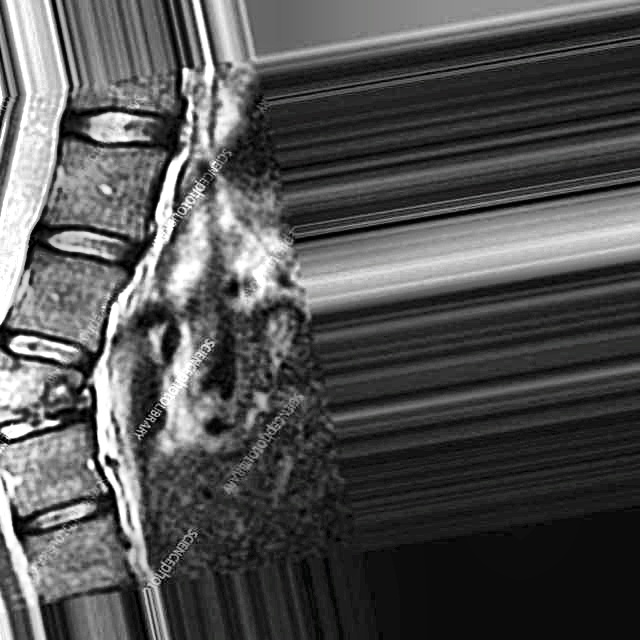Greenstick: (0, 323, 103, 445)
